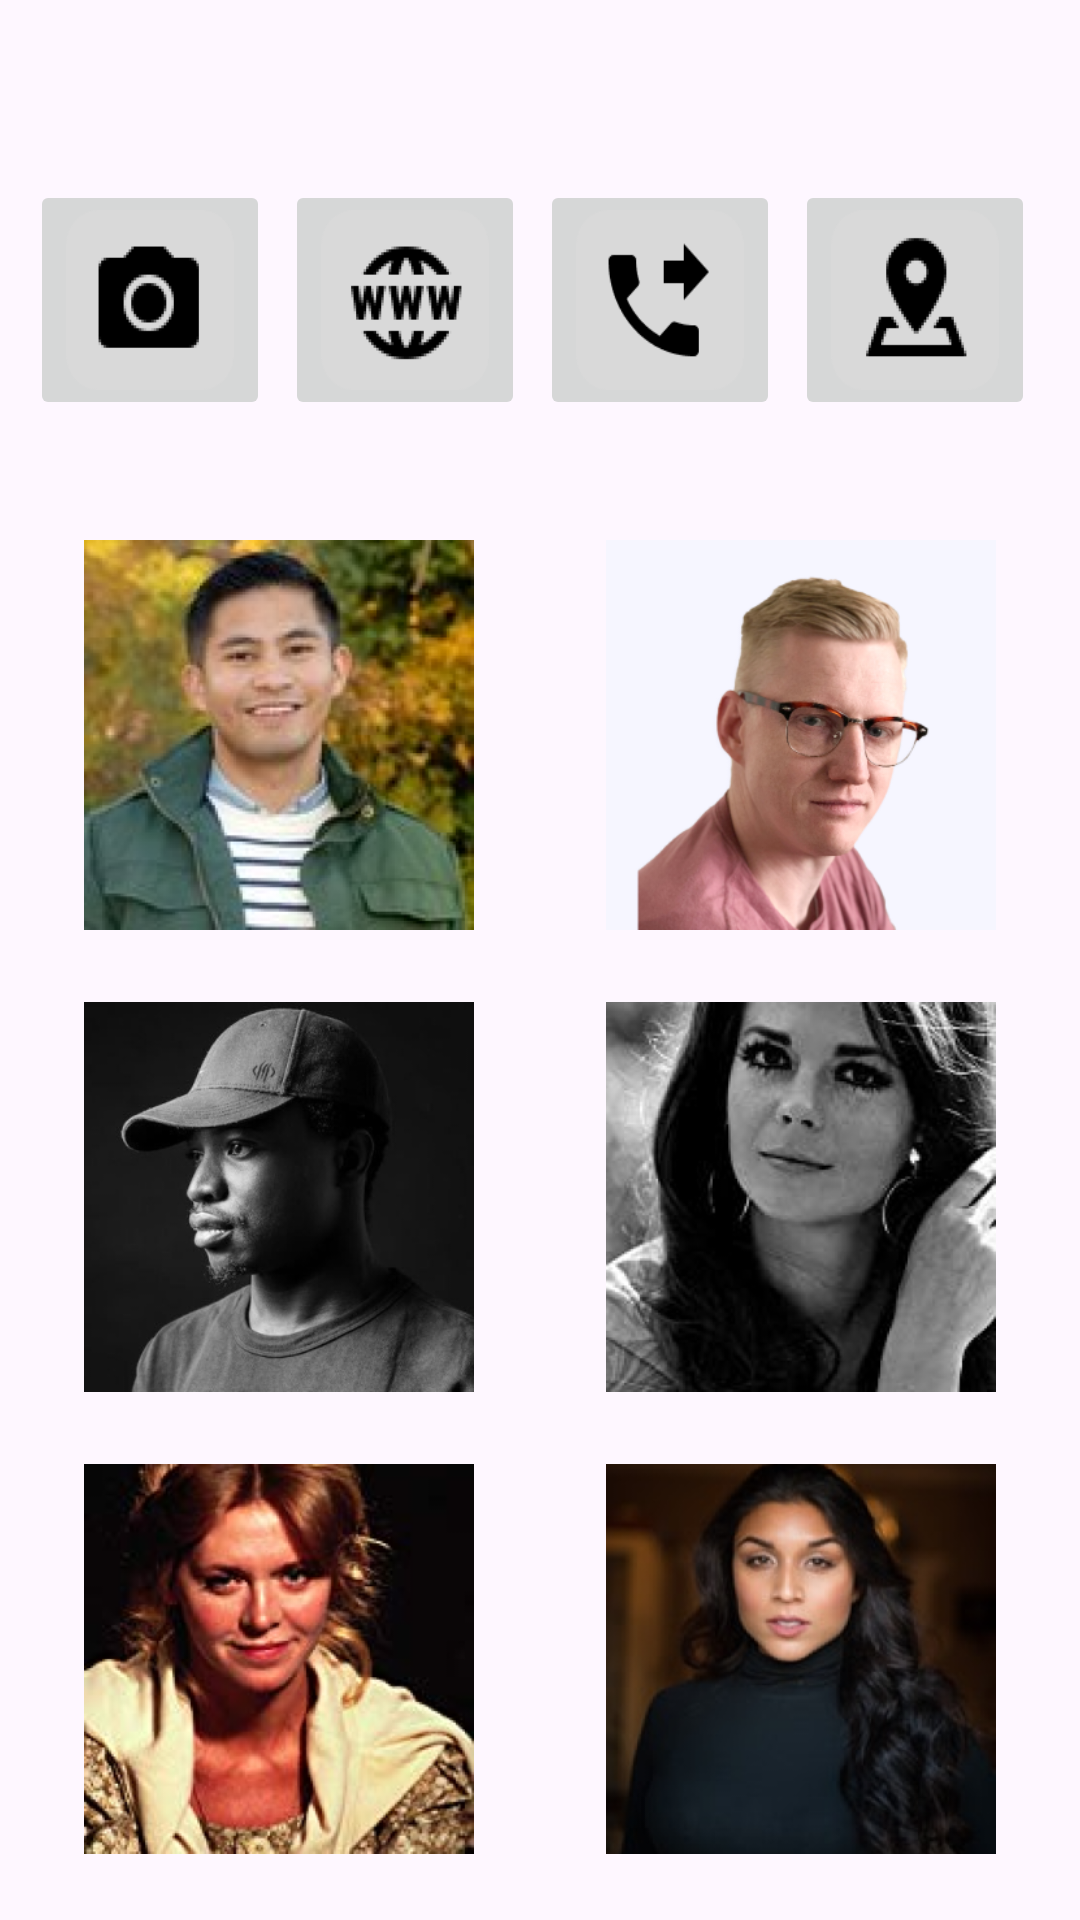

Named icons in this screenshot (1080 x 1920) and their centers, (x,y):
camera: (150,300)
internet: (405,300)
map: (915,300)
